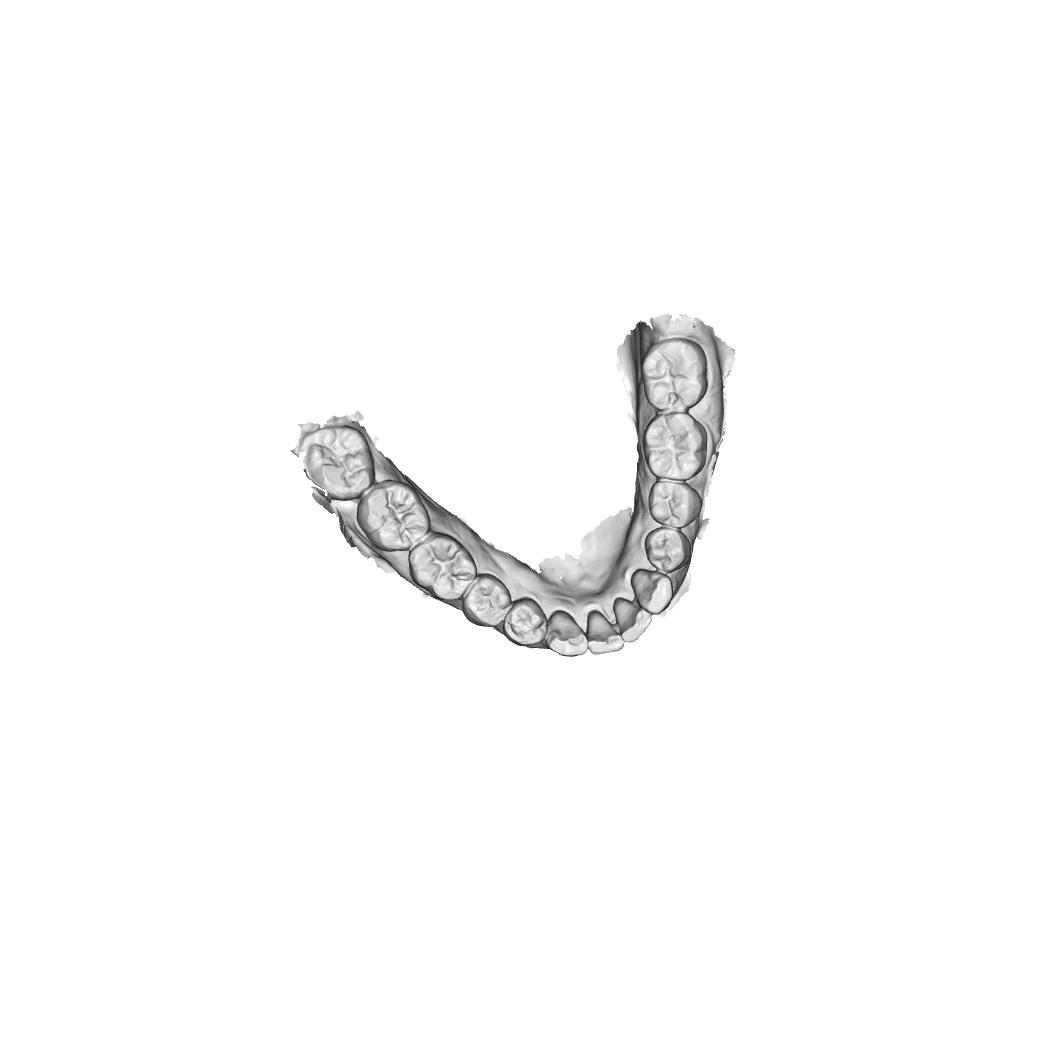incisor: (544, 609, 589, 658), (630, 568, 675, 615), (585, 610, 625, 656), (613, 597, 653, 643)
molar: (301, 425, 376, 502), (355, 479, 431, 553), (639, 335, 709, 414), (408, 532, 478, 601), (642, 411, 708, 482)
premolar: (462, 573, 512, 628), (647, 480, 703, 529), (502, 597, 549, 645), (644, 527, 692, 573)
